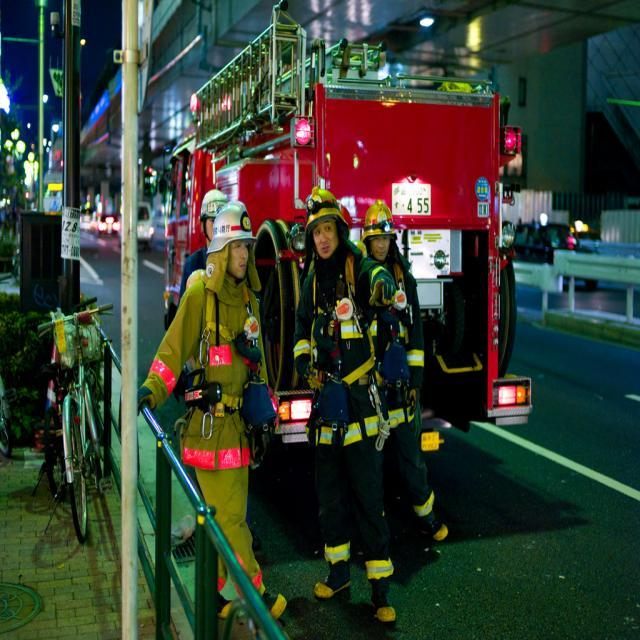bicycle: (91, 33, 526, 532)
